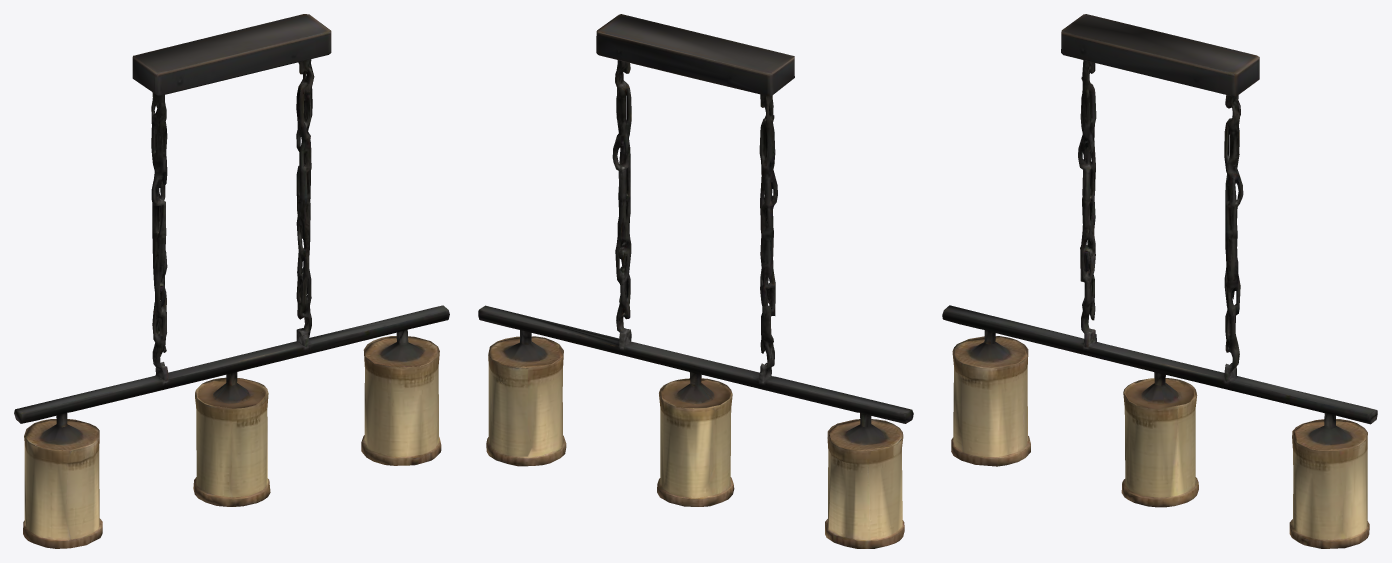
3 renders of one model, left to right at view 1: azimuth 30°, elevation 25°; view 2: azimuth 150°, elevation 25°; view 3: azimuth 330°, elevation 25°, orthographic.
Parts seen in each view (by area): view 1: geometry_0; view 2: geometry_0; view 3: geometry_0.
Part boxes in pixels (x1=…): geometry_0: x1=14, y1=14, x2=449, y2=548; geometry_0: x1=478, y1=14, x2=913, y2=548; geometry_0: x1=942, y1=14, x2=1377, y2=548.
Size of the model in its own units: 0.9998 by 0.9986 by 0.1599.
Materials: 1 (1 with a texture image).
